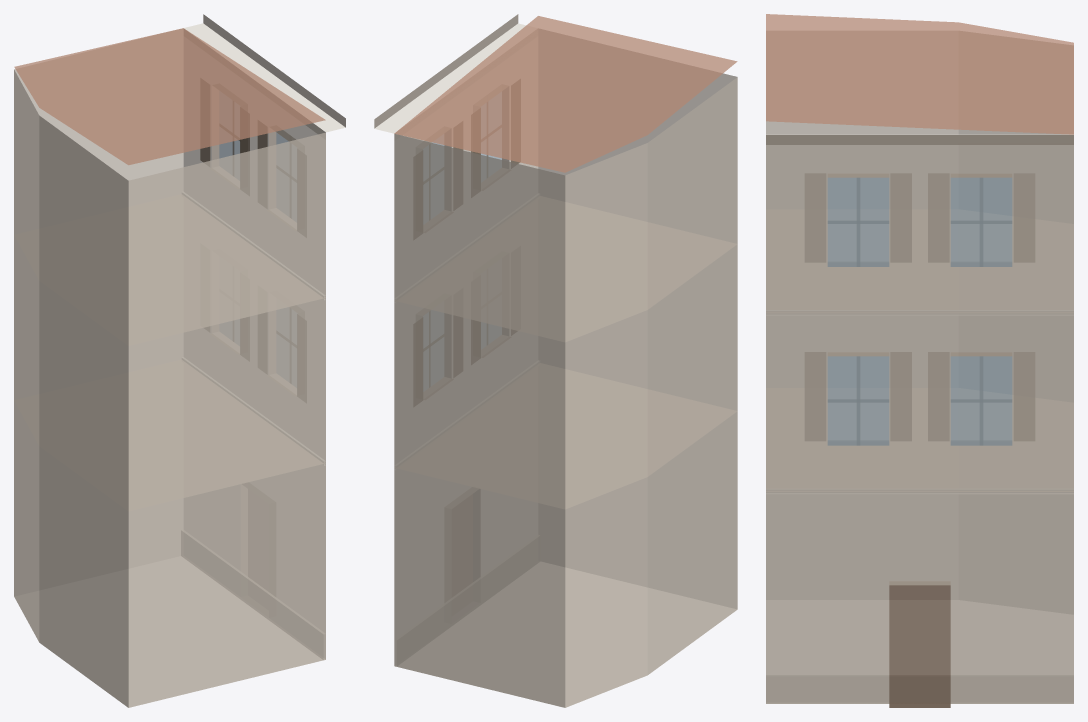
The model's file is INT-S2.glb.
3 views of the same model, side by side, from view 1: azimuth 30°, elevation 25°; view 2: azimuth 150°, elevation 25°; view 3: azimuth 270°, elevation 25° (orthographic). The views are drawn at different scales.
Parts seen in each view (by area): view 1: INT-S2; view 2: INT-S2; view 3: INT-S2.
Boxes of the visible parts, left/top/right/bottom form: INT-S2: left=14, top=14, right=345, bottom=707; INT-S2: left=374, top=14, right=737, bottom=707; INT-S2: left=766, top=14, right=1073, bottom=707.
Bounding box in the file's own units: 4.4 × 10.5 × 5.
